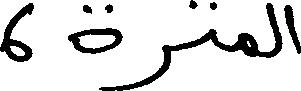X: (73, 0, 120, 90), (122, 31, 168, 90), (0, 0, 30, 66), (267, 0, 280, 62), (287, 0, 300, 58), (242, 28, 254, 61), (210, 0, 216, 50)
